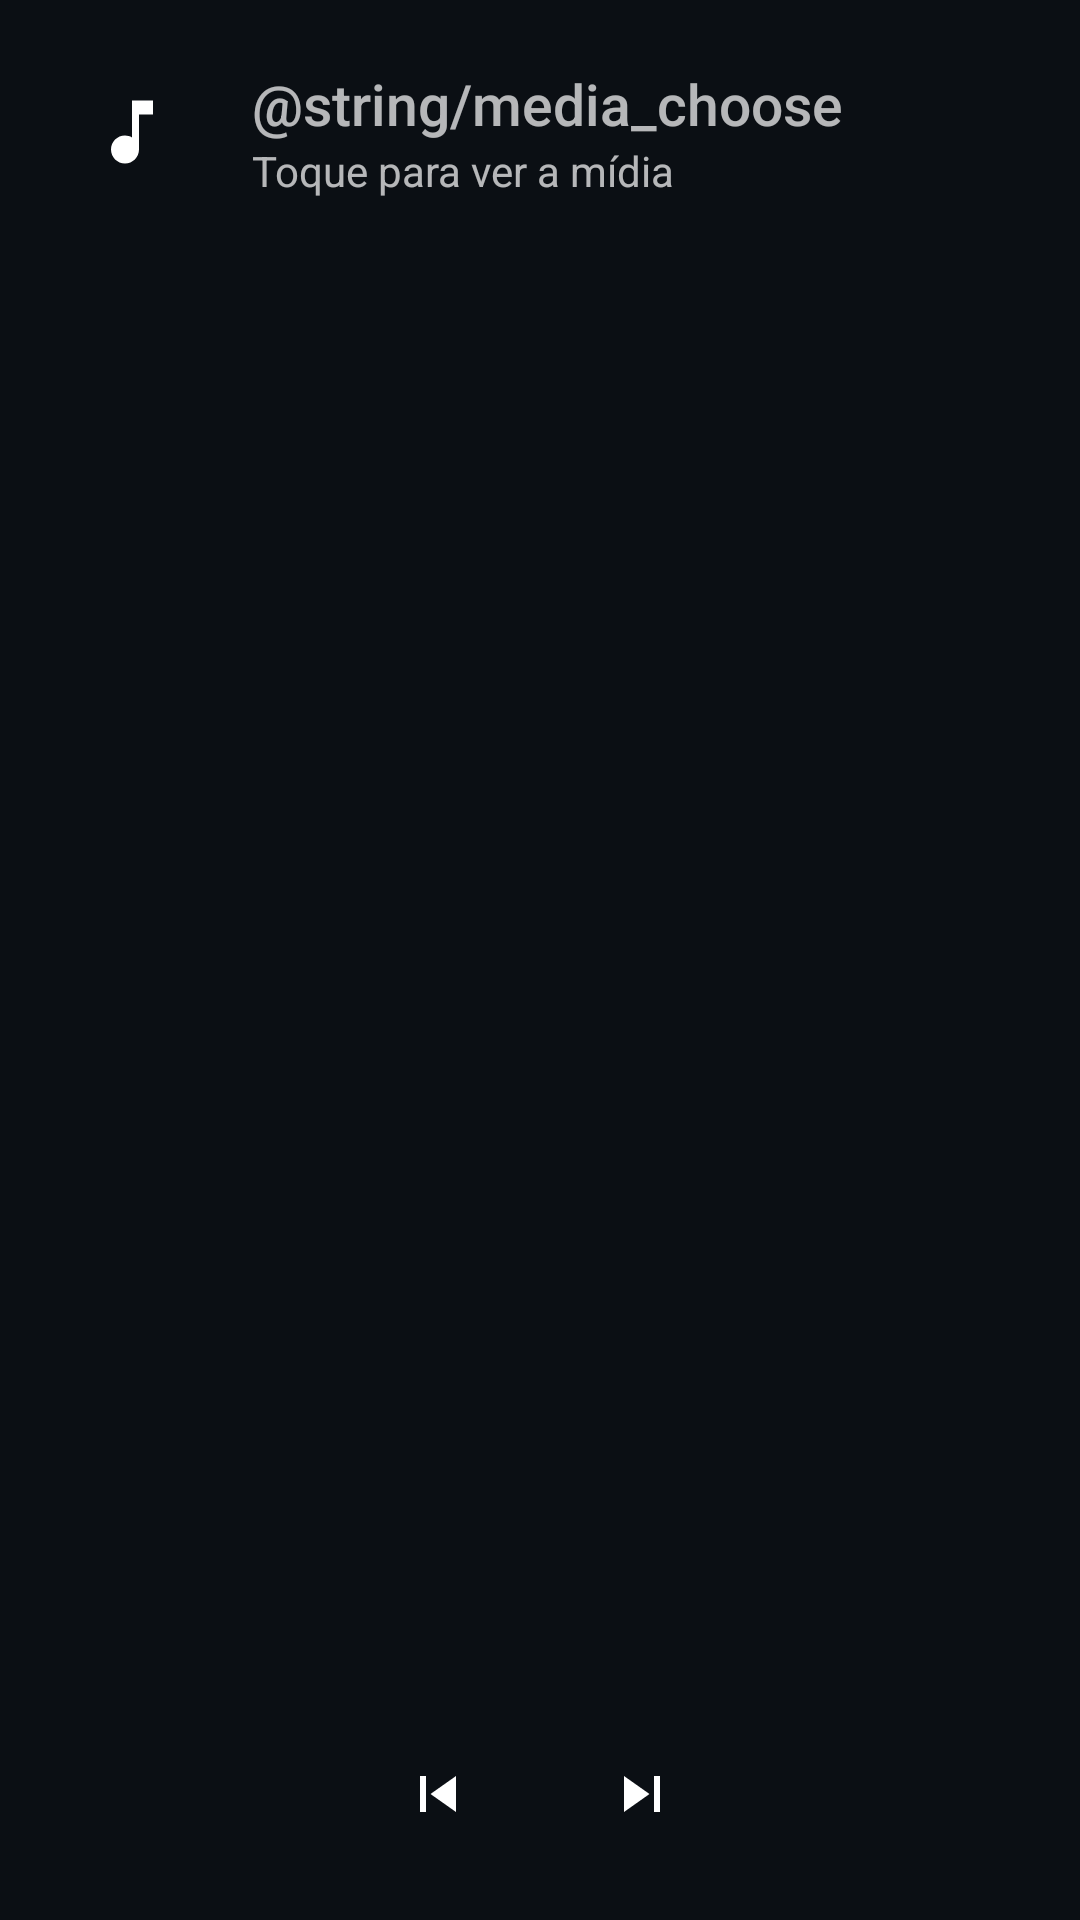

Locate icon controls on the screen. Image size 1080×1920, boxes as bbox=[x1, y1, x2, y2].
Anterior: bbox=[420, 1776, 456, 1812]
music: bbox=[111, 100, 153, 164]
Próxima: bbox=[624, 1776, 660, 1812]
